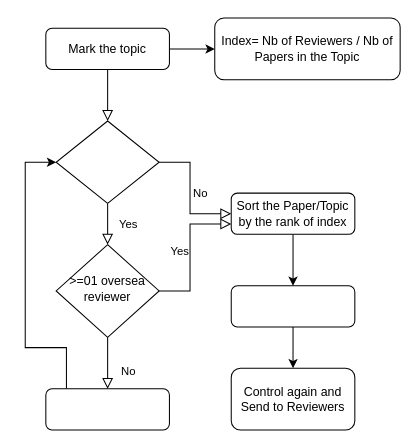
Some shapes in this 418 by 448 pixel diagram are drawn without their labels. Here are the shapes that lost their labels. From the top down, the box of each, then its label:
(55, 120, 159, 203): Vietnamese author(s)
(230, 285, 355, 327): Automatic merge Papers and Suitable Reviewers
(45, 388, 169, 430): Re select reviewer(s)
